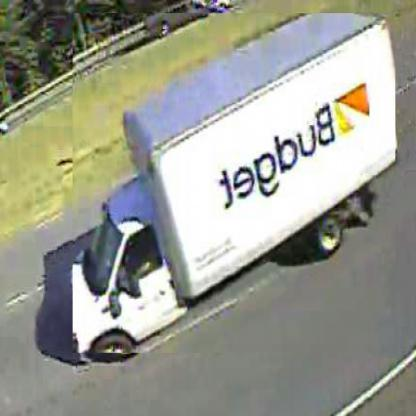truck: (73, 14, 396, 355)
